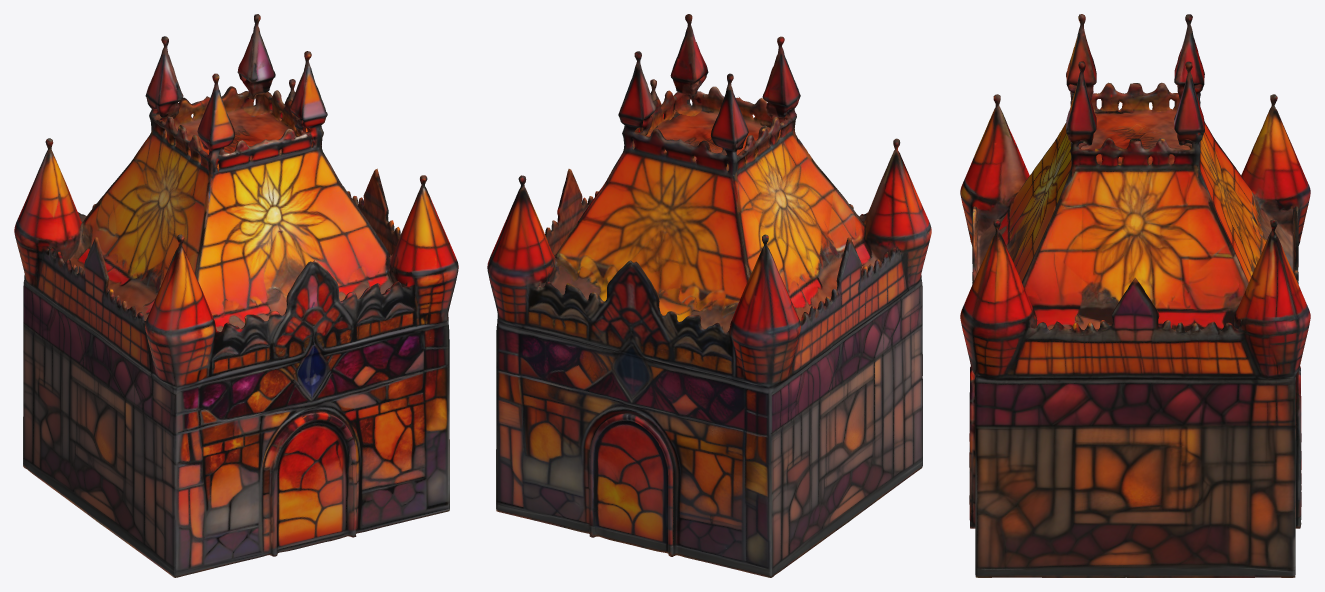
File: redCastle.glb
3 renders of one model, left to right at view 1: azimuth 30°, elevation 25°; view 2: azimuth 150°, elevation 25°; view 3: azimuth 270°, elevation 25°, orthographic. The views are drawn at different scales.
Visible parts, largest first — view 1: Mesh_0; view 2: Mesh_0; view 3: Mesh_0.
Part boxes in pixels (<box>): Mesh_0: <box>14,14,458,577</box>; Mesh_0: <box>487,14,931,577</box>; Mesh_0: <box>960,14,1310,577</box>.
Size of the model in its own units: 1.43 by 2.01 by 1.36.
Materials: 1 (1 with a texture image).
